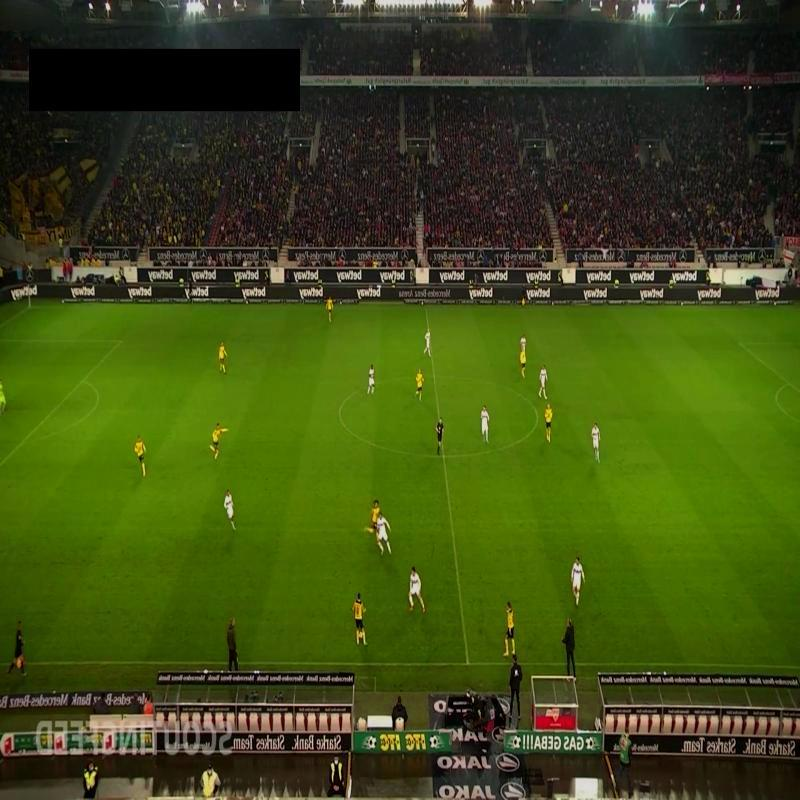1: (23, 300, 37, 314)
10: (72, 374, 94, 388), (782, 378, 796, 392)
11: (13, 438, 27, 452)
13: (418, 302, 432, 316)
14: (426, 369, 440, 383)
15: (436, 450, 450, 464)
16: (458, 654, 476, 674)
9: (112, 336, 132, 349), (732, 335, 746, 349)
c: (530, 412, 544, 426), (332, 406, 346, 420)
